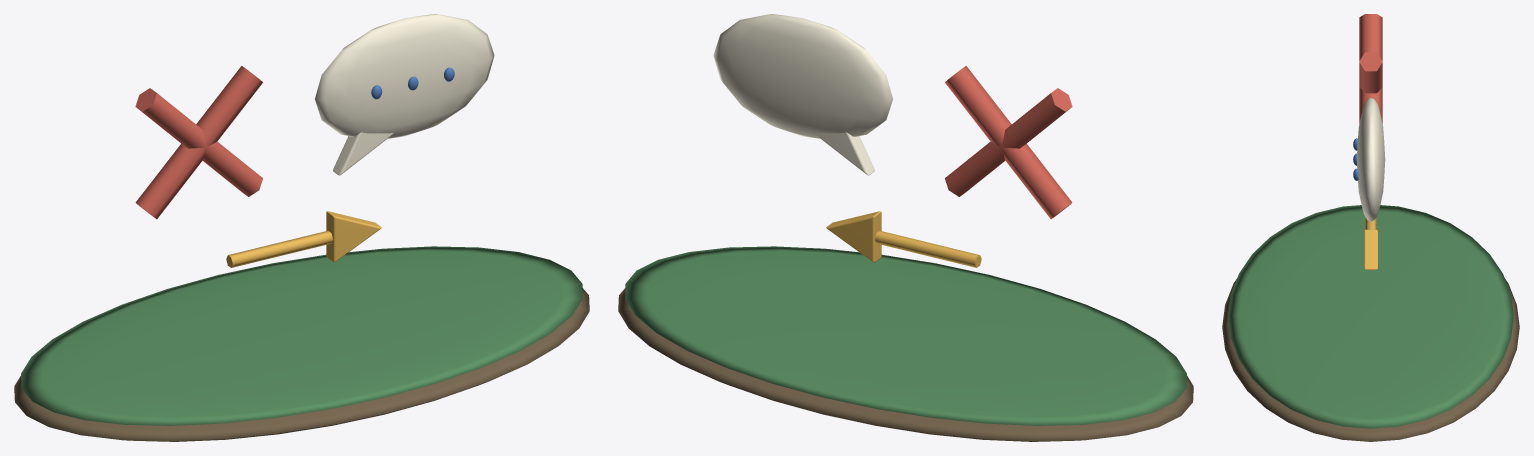
The model's file is complete-second-none-debate-regardless.glb.
3 renders of one model, left to right at view 1: azimuth 30°, elevation 25°; view 2: azimuth 150°, elevation 25°; view 3: azimuth 270°, elevation 25°, orthographic. The views are drawn at different scales.
Parts seen in each view (by area): view 1: complete-second-none-debate-regardless_surface_01, complete-second-none-debate-regardless_surface_03, complete-second-none-debate-regardless_surface_00, complete-second-none-debate-regardless_surface_02, complete-second-none-debate-regardless_surface_05; view 2: complete-second-none-debate-regardless_surface_01, complete-second-none-debate-regardless_surface_03, complete-second-none-debate-regardless_surface_00, complete-second-none-debate-regardless_surface_02, complete-second-none-debate-regardless_surface_05; view 3: complete-second-none-debate-regardless_surface_01, complete-second-none-debate-regardless_surface_00, complete-second-none-debate-regardless_surface_03, complete-second-none-debate-regardless_surface_02, complete-second-none-debate-regardless_surface_05.
Part boxes in pixels (bbox=[...]): complete-second-none-debate-regardless_surface_01: bbox=[21, 246, 582, 425]; complete-second-none-debate-regardless_surface_03: bbox=[315, 14, 494, 175]; complete-second-none-debate-regardless_surface_00: bbox=[14, 288, 589, 441]; complete-second-none-debate-regardless_surface_02: bbox=[135, 66, 262, 219]; complete-second-none-debate-regardless_surface_05: bbox=[226, 211, 381, 267]; complete-second-none-debate-regardless_surface_01: bbox=[625, 246, 1186, 425]; complete-second-none-debate-regardless_surface_03: bbox=[713, 14, 892, 175]; complete-second-none-debate-regardless_surface_00: bbox=[618, 288, 1193, 441]; complete-second-none-debate-regardless_surface_02: bbox=[945, 66, 1072, 219]; complete-second-none-debate-regardless_surface_05: bbox=[826, 211, 981, 267]; complete-second-none-debate-regardless_surface_01: bbox=[1228, 205, 1513, 428]; complete-second-none-debate-regardless_surface_00: bbox=[1222, 279, 1519, 441]; complete-second-none-debate-regardless_surface_03: bbox=[1357, 97, 1385, 221]; complete-second-none-debate-regardless_surface_02: bbox=[1359, 14, 1382, 123]; complete-second-none-debate-regardless_surface_05: bbox=[1364, 217, 1377, 269].
Size of the model in its own units: 4.56 by 2.55 by 2.5.
